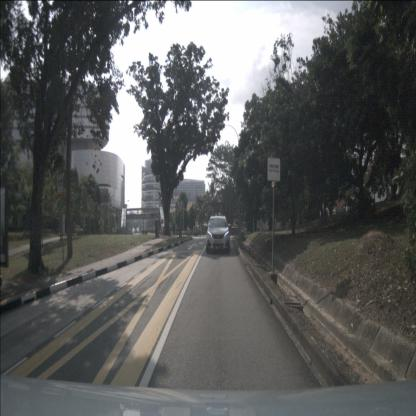vehicle-car: (206, 216, 230, 254)
